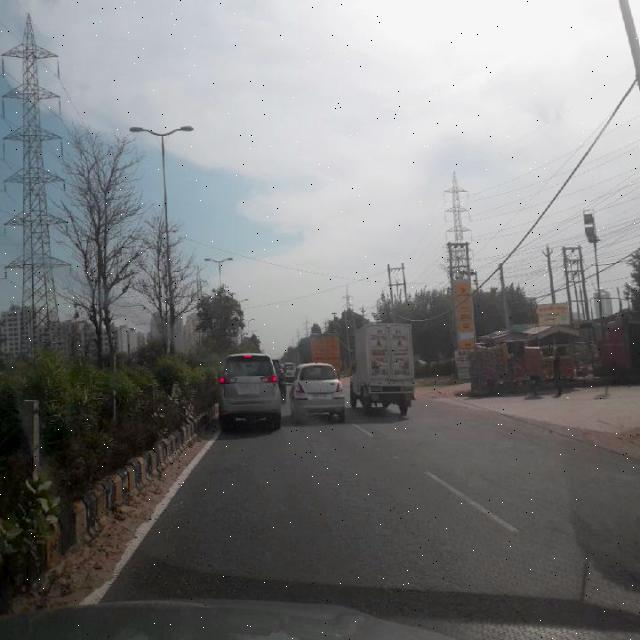D20: (154, 428, 617, 638)
